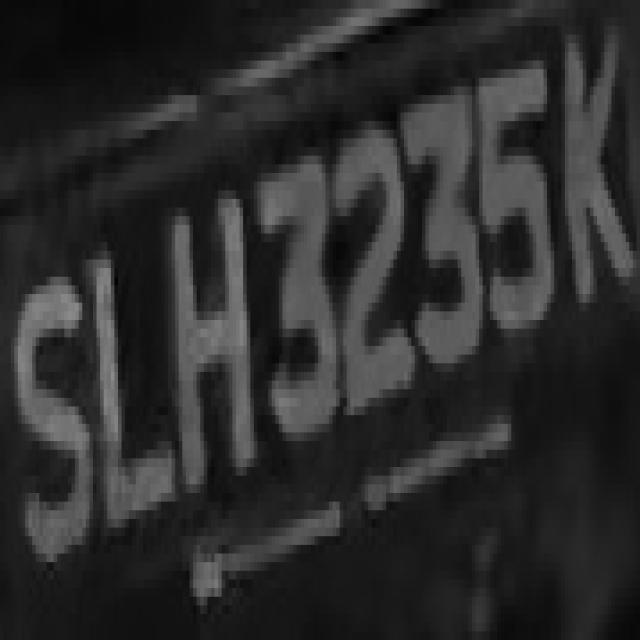2: (329, 121, 415, 424)
3: (258, 130, 336, 476), (408, 87, 493, 389)
5: (479, 34, 551, 380)
H: (168, 164, 261, 510)
K: (550, 9, 636, 328)
L: (90, 199, 176, 545)
S: (7, 259, 97, 597)
